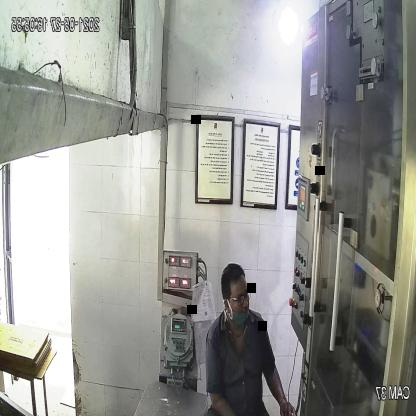goggles: (225, 286, 253, 308)
